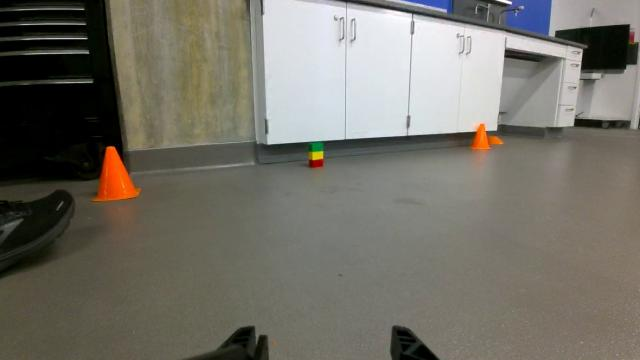lego: (307, 136, 327, 172)
